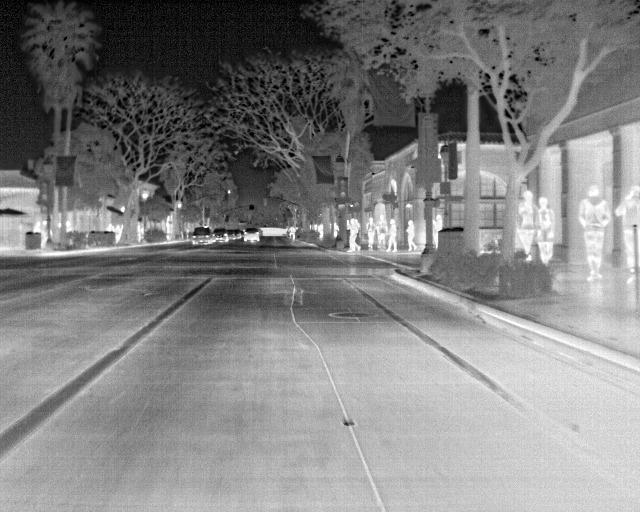bicycle: (190, 226, 212, 249), (240, 226, 260, 243), (212, 228, 229, 245)
empty: (578, 187, 609, 281), (616, 188, 638, 282), (516, 189, 538, 264), (534, 196, 556, 268), (345, 217, 361, 255), (404, 218, 420, 253), (384, 219, 399, 253), (363, 219, 378, 250)
